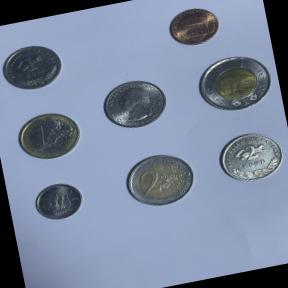coin: (190, 48, 278, 119), (120, 146, 202, 213), (211, 124, 288, 188), (97, 73, 172, 135), (11, 106, 86, 168), (164, 2, 225, 52), (28, 176, 88, 225)
